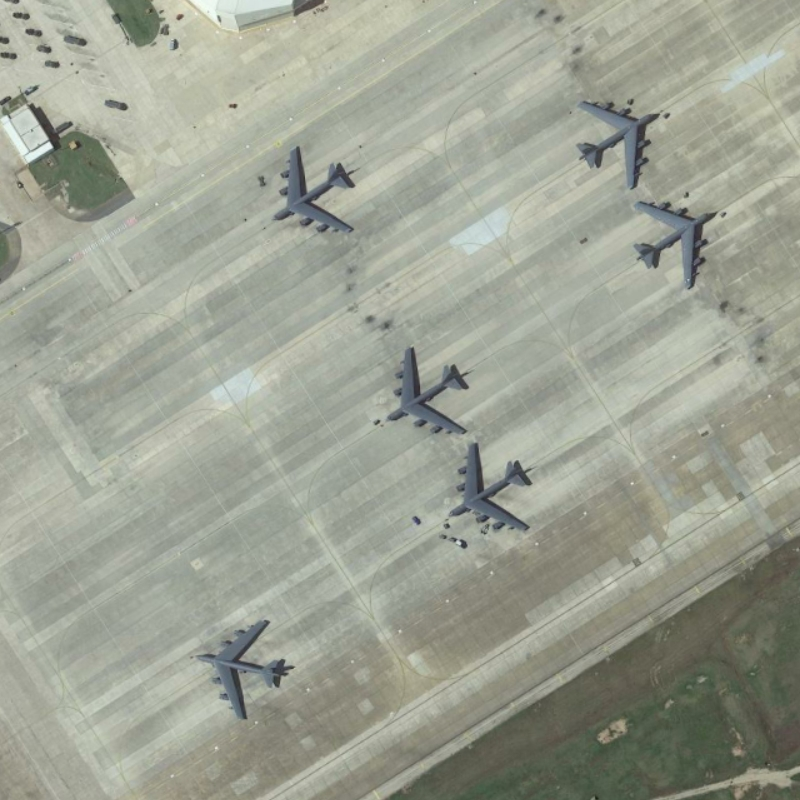A8: (188, 609, 293, 724), (439, 436, 540, 542), (626, 196, 728, 299), (261, 139, 363, 241), (373, 341, 479, 439), (570, 84, 663, 195)
